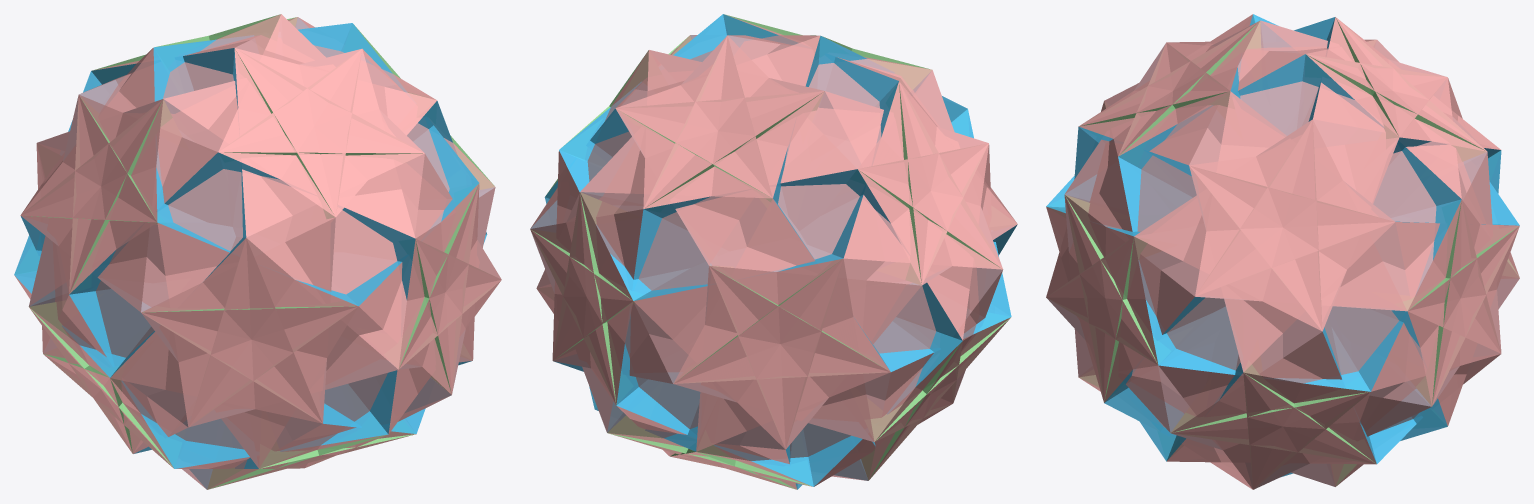
The model's file is 55_Dodekexcavated_Sic.obj.
The picture shows the model from 3 angles, left to right: view 1: azimuth 30°, elevation 25°; view 2: azimuth 150°, elevation 25°; view 3: azimuth 270°, elevation 25°; orthographic projection.
Bounding box in the file's own units: 2.21 × 2.21 × 2.21.
